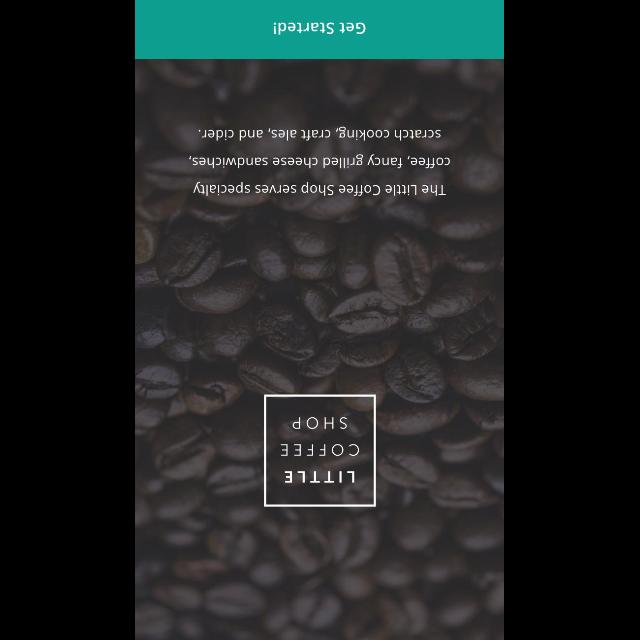backgroundimage: (136, 59, 504, 639)
image: (264, 394, 376, 506)
text: (189, 126, 451, 196)
textbutton: (136, 0, 504, 60)
